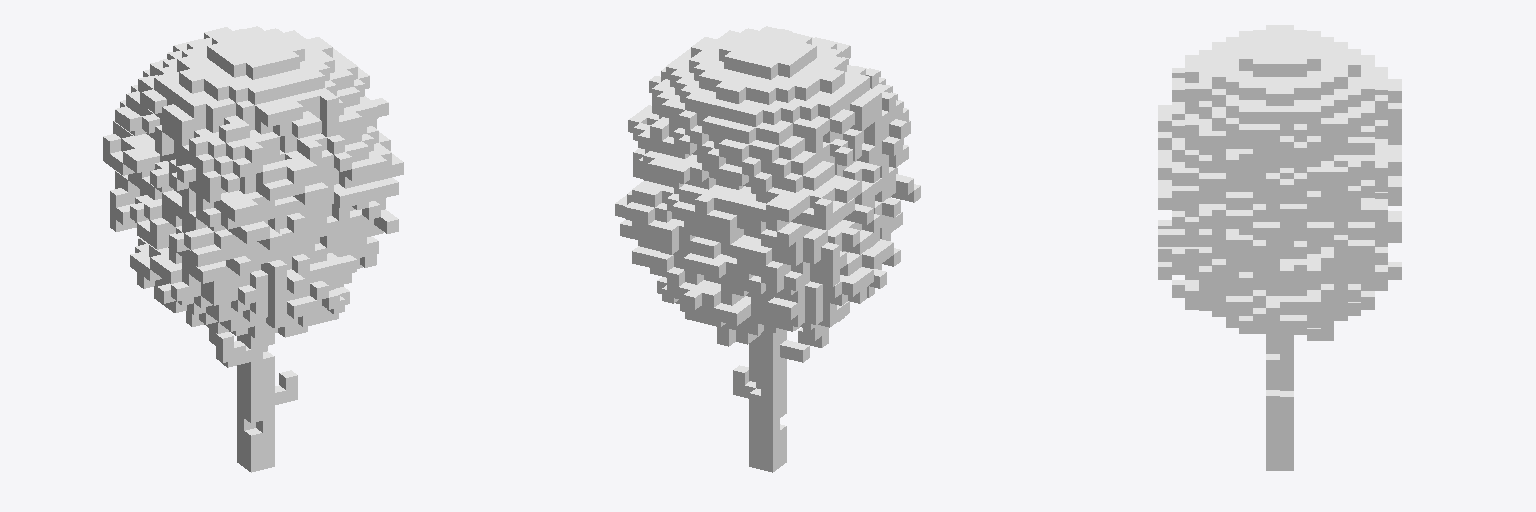
The model's file is L6Tree_01.obj.
3 views of the same model, side by side, from view 1: azimuth 30°, elevation 25°; view 2: azimuth 150°, elevation 25°; view 3: azimuth 270°, elevation 25° (orthographic).
Size of the model in its own units: 18 by 34 by 18.